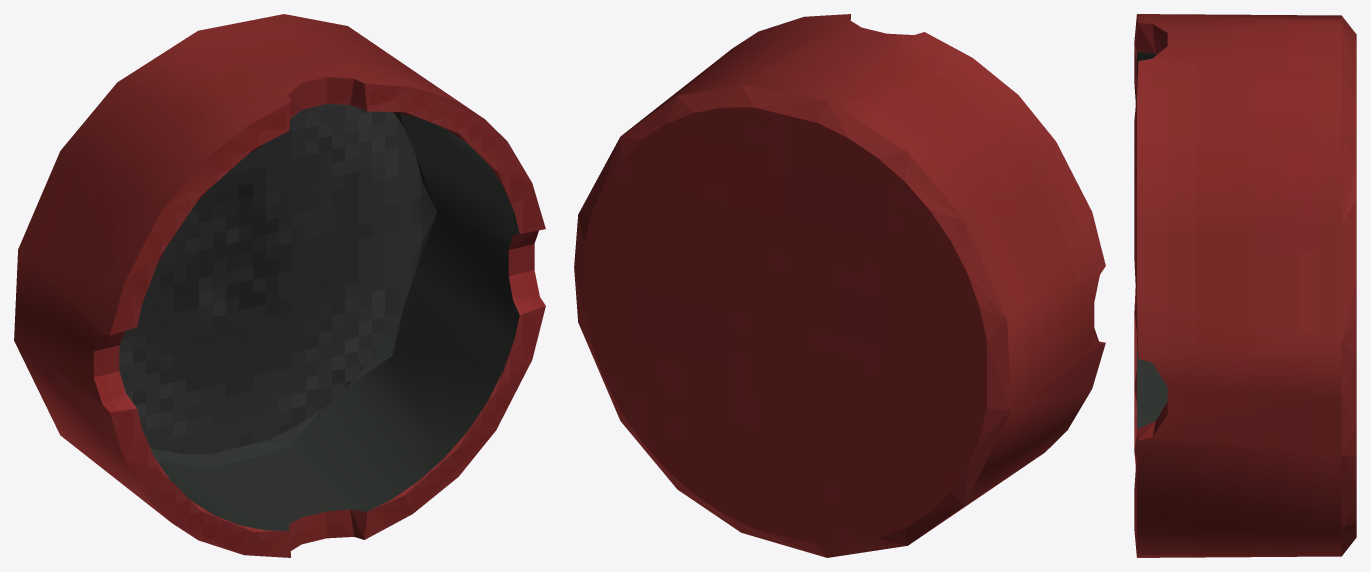
The model's file is nt_2020_ashtray_01_LOD1.obj.
3 renders of one model, left to right at view 1: azimuth 30°, elevation 25°; view 2: azimuth 150°, elevation 25°; view 3: azimuth 270°, elevation 25°, orthographic. The views are drawn at different scales.
Visible parts, largest first — view 1: mtl_nt_2020_ashtray_01, mtl_nt_2020_ashtray_02; view 2: mtl_nt_2020_ashtray_02; view 3: mtl_nt_2020_ashtray_02, mtl_nt_2020_ashtray_01.
Part boxes in pixels (box(x1,y1,x2,y2)): mtl_nt_2020_ashtray_01: box(119, 104, 519, 530); mtl_nt_2020_ashtray_02: box(14, 14, 545, 557); mtl_nt_2020_ashtray_02: box(574, 14, 1105, 557); mtl_nt_2020_ashtray_02: box(1134, 14, 1356, 557); mtl_nt_2020_ashtray_01: box(1137, 52, 1167, 428).
Size of the model in its own units: 11.49 by 11.49 by 4.7.
